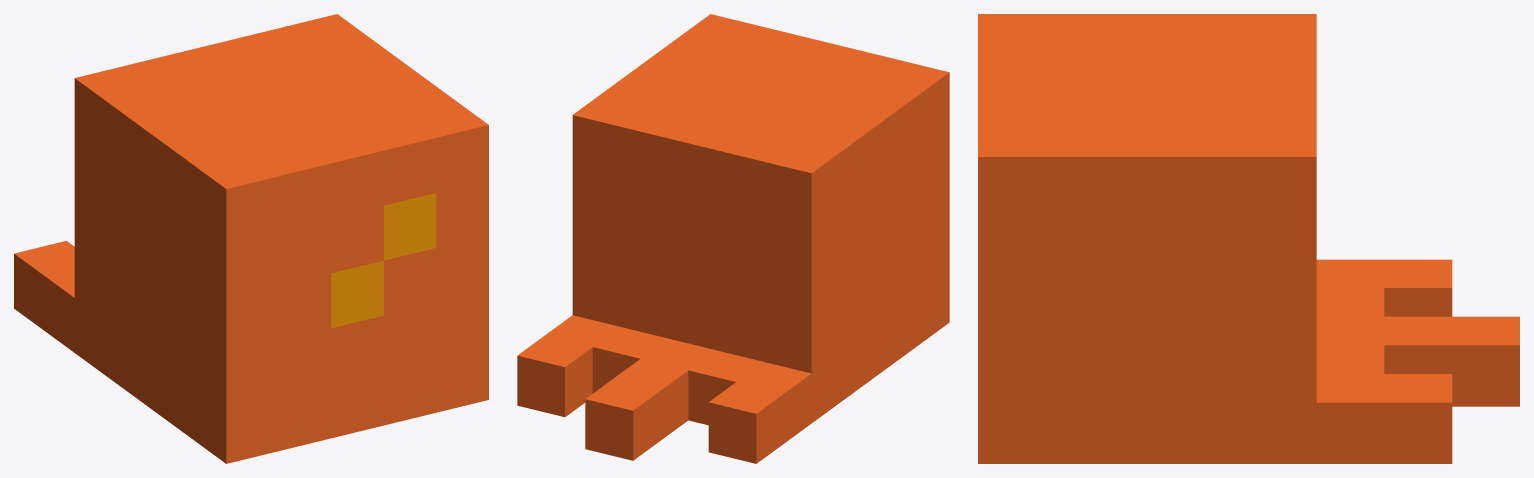
Rendered from blob_d.obj.
3 views of the same model, side by side, from view 1: azimuth 30°, elevation 25°; view 2: azimuth 150°, elevation 25°; view 3: azimuth 270°, elevation 25° (orthographic). The views are drawn at different scales.
Bounding box in the file's own units: 0.5 × 0.5 × 0.8.
Materials: 1 (1 with a texture image).
